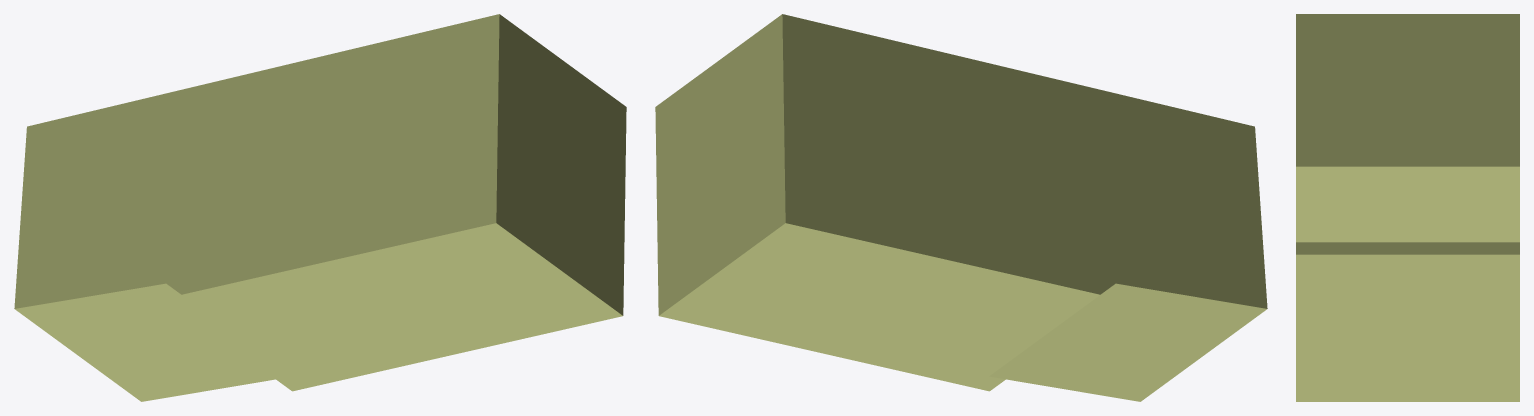
The picture shows the model from 3 angles, left to right: view 1: azimuth 30°, elevation 25°; view 2: azimuth 150°, elevation 25°; view 3: azimuth 270°, elevation 25°; orthographic projection. The views are drawn at different scales.
Parts seen in each view (by area): view 1: 0_1_0_0_0_1_2_1_1_3_3; view 2: 0_1_0_0_0_1_2_1_1_3_3; view 3: 0_1_0_0_0_1_2_1_1_3_3.
Boxes of the visible parts, left/top/right/bottom form: 0_1_0_0_0_1_2_1_1_3_3: left=14, top=14, right=626, bottom=401; 0_1_0_0_0_1_2_1_1_3_3: left=655, top=14, right=1267, bottom=401; 0_1_0_0_0_1_2_1_1_3_3: left=1296, top=14, right=1519, bottom=401.
Size of the model in its own units: 13.23 by 5.5 by 6.
